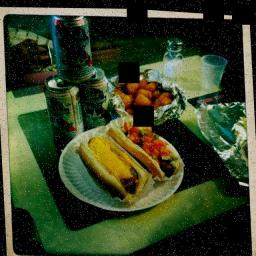hotdog: (121, 168, 143, 194), (160, 156, 174, 172)
